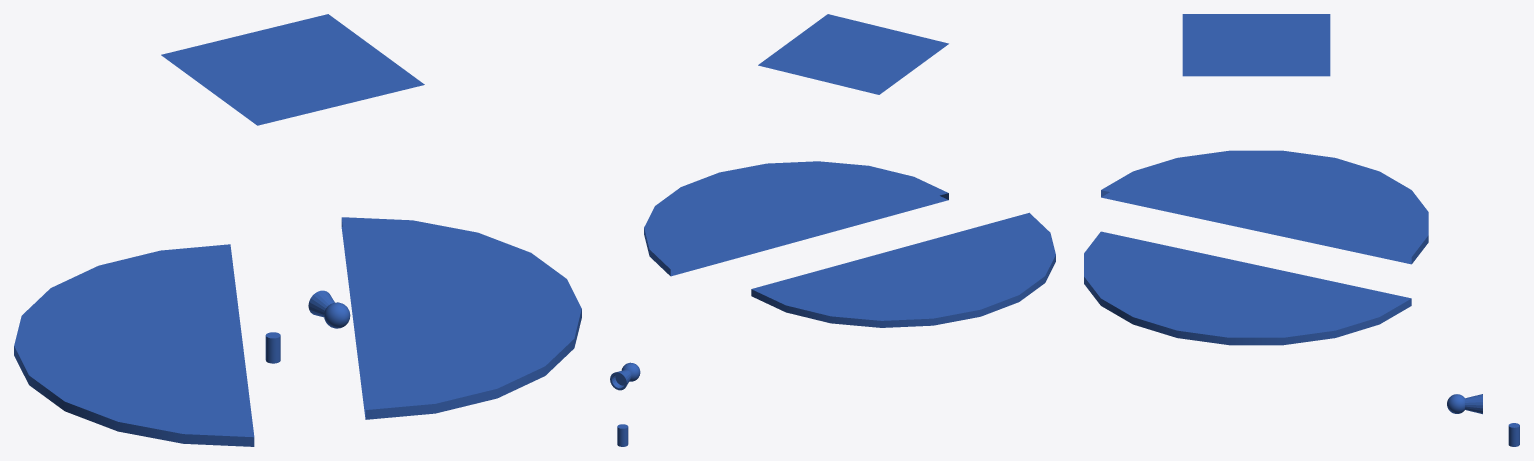
The model's file is Table02.fbx.
3 views of the same model, side by side, from view 1: azimuth 30°, elevation 25°; view 2: azimuth 150°, elevation 25°; view 3: azimuth 270°, elevation 25° (orthographic). The views are drawn at different scales.
Parts seen in each view (by area): view 1: Plate2, Plate1, FakeFloor1, Pawn; view 2: Plate2, Plate1, FakeFloor1, Pawn; view 3: Plate1, Plate2, FakeFloor1, Pawn.
Boxes of the visible parts, x1,y1,x2,y2 form: Plate2: [341, 217, 581, 419]; Plate1: [14, 244, 254, 446]; FakeFloor1: [161, 14, 424, 125]; Pawn: [308, 290, 350, 328]; Plate2: [644, 161, 948, 276]; Plate1: [751, 212, 1055, 327]; FakeFloor1: [758, 14, 948, 94]; Pawn: [610, 362, 640, 390]; Plate1: [1101, 150, 1428, 264]; Plate2: [1084, 231, 1411, 345]; FakeFloor1: [1182, 14, 1330, 76]; Pawn: [1447, 394, 1482, 414].
Size of the model in its own units: 178 by 152 by 175.
